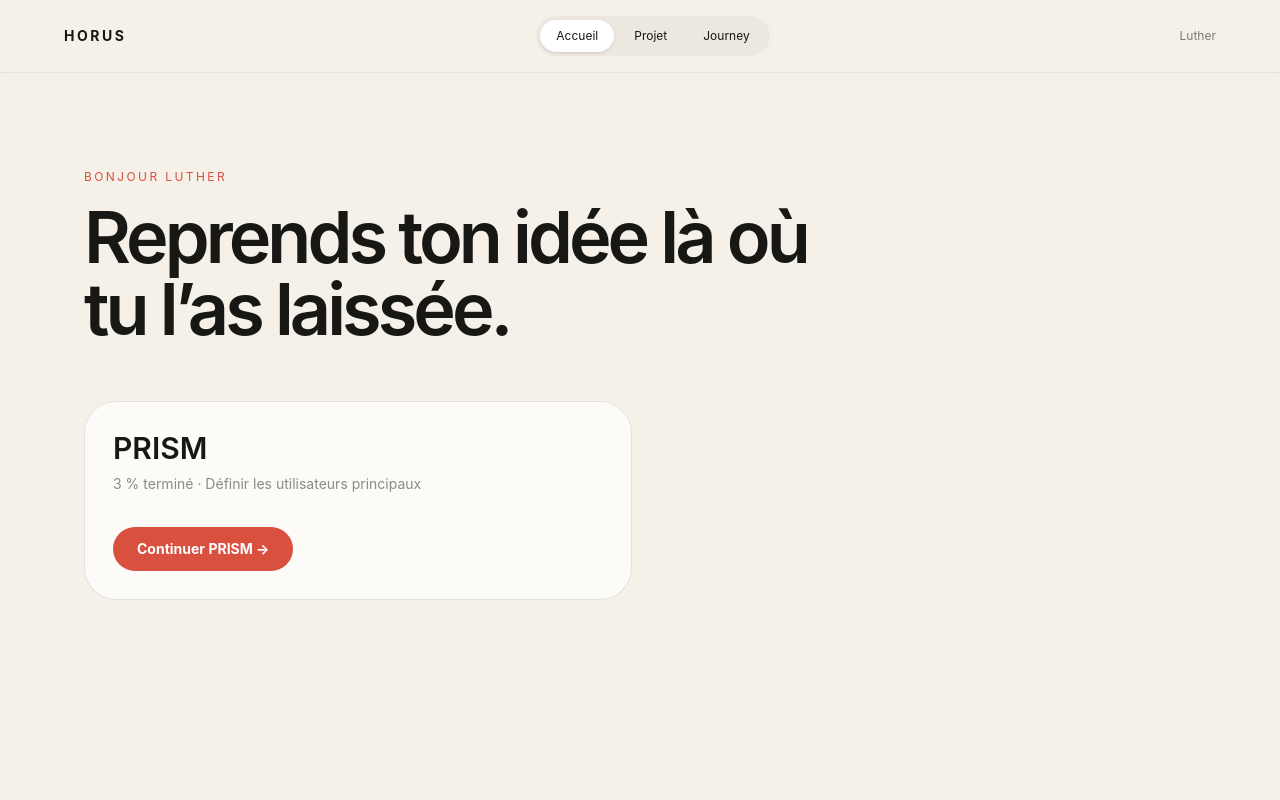
Test: HORUS Journey navigation › resumes a project on the exact question selected by the server
Expected: the heading "Reprends ton idée là où tu l’as laissée." is shown, left=84, top=201, right=852, bottom=345
What coordinates should you click on to do the following:
click the button "Continuer PRISM →"
I would click on:
 (203, 549)
Its box is left=113, top=527, right=294, bottom=571.
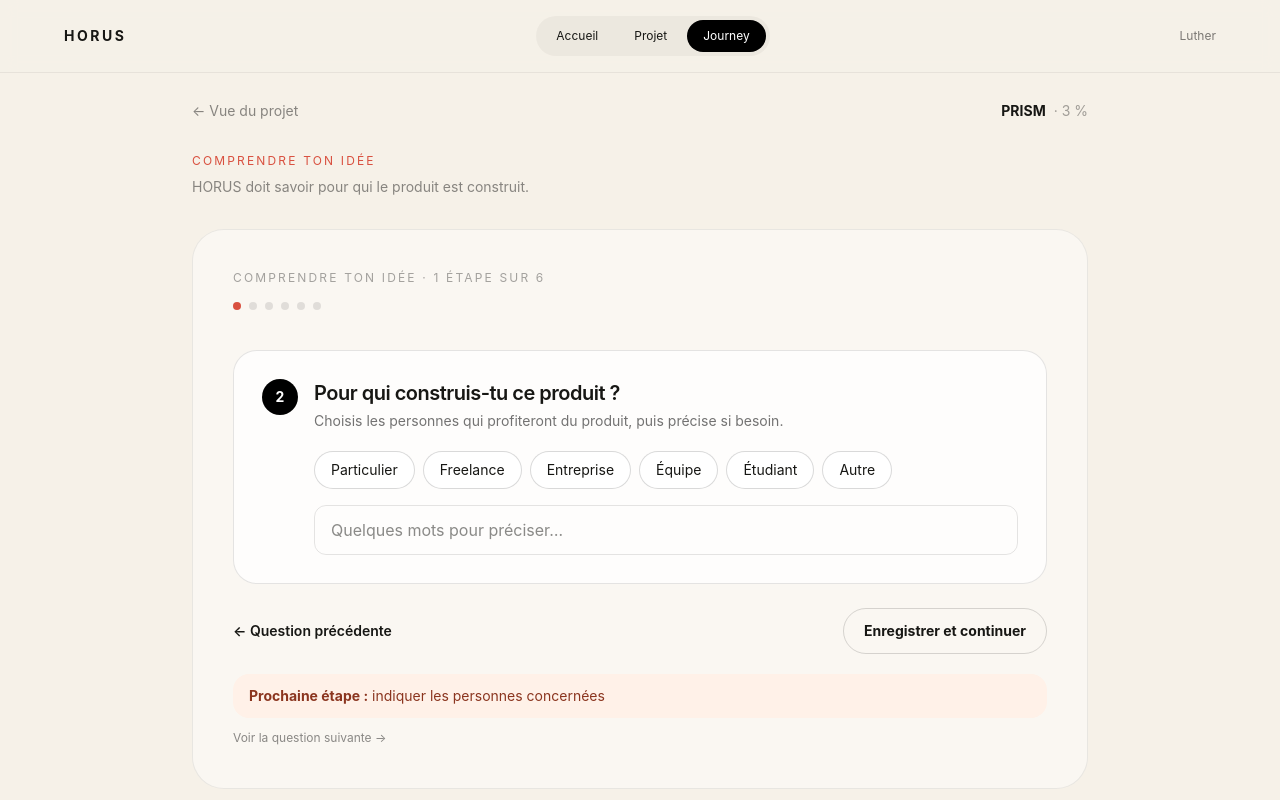
Expected: the heading "Pour qui construis-tu ce produit ?" is shown, left=314, top=381, right=620, bottom=405
